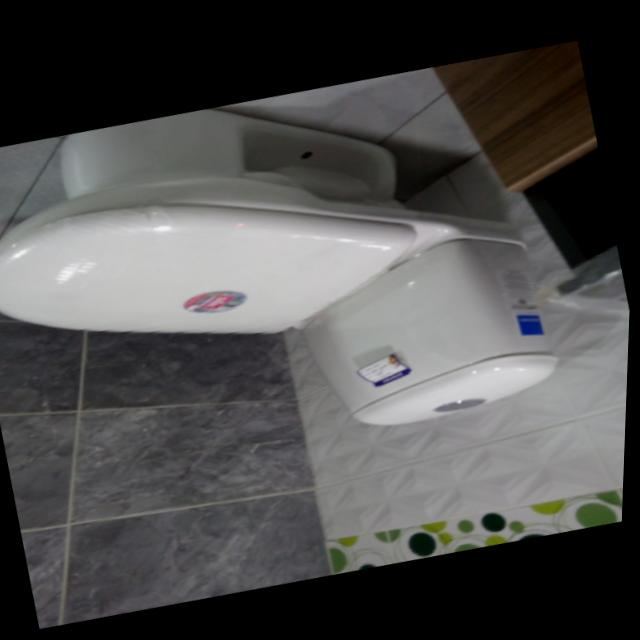toilet: (0, 32, 576, 515)
